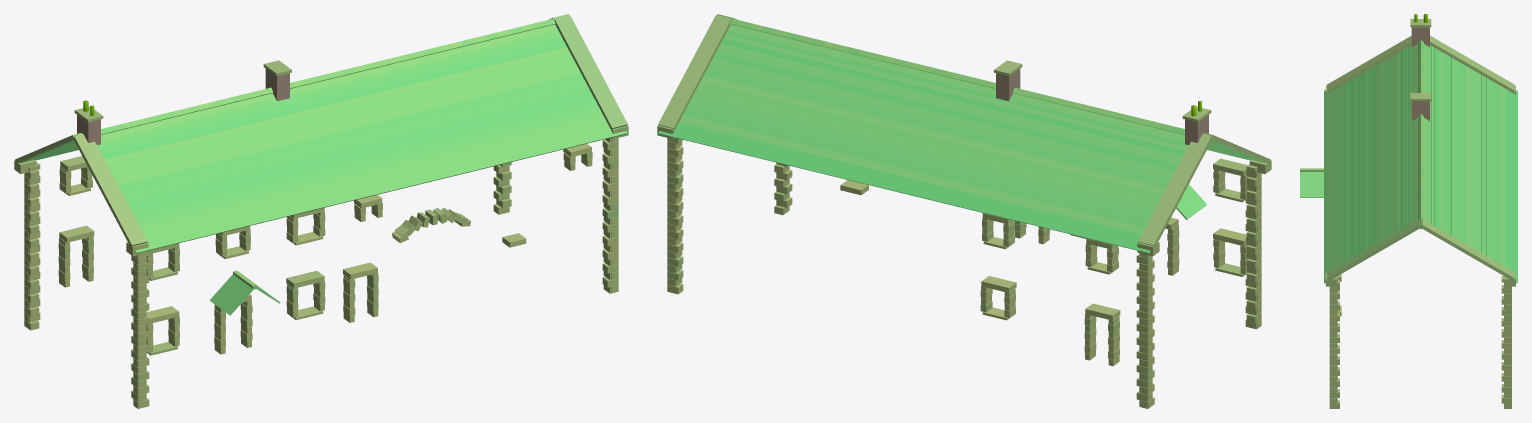
Rendered from SM_Bld_000_Stone.glb.
The picture shows the model from 3 angles, left to right: view 1: azimuth 30°, elevation 25°; view 2: azimuth 150°, elevation 25°; view 3: azimuth 270°, elevation 25°; orthographic projection. The views are drawn at different scales.
Parts seen in each view (by area): view 1: SM_Bld_000_Stone; view 2: SM_Bld_000_Stone; view 3: SM_Bld_000_Stone.
Part boxes in pixels (x1,y1,x2,y2): SM_Bld_000_Stone: (14, 14, 628, 408); SM_Bld_000_Stone: (657, 14, 1271, 408); SM_Bld_000_Stone: (1300, 14, 1517, 408).
Size of the model in its own units: 22.72 by 11.45 by 10.79.
